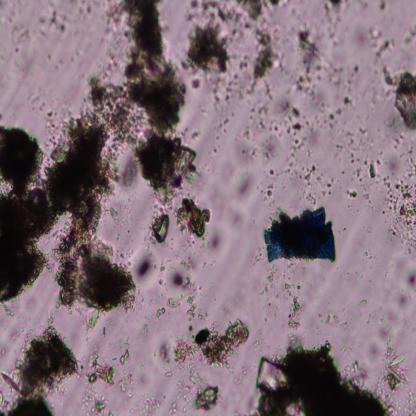Background material: (88, 0, 198, 206), (254, 335, 400, 416), (0, 126, 56, 302), (56, 207, 135, 329), (0, 315, 83, 416), (44, 113, 116, 220), (287, 24, 361, 98), (210, 56, 249, 156), (381, 146, 416, 257), (176, 319, 250, 370), (240, 0, 278, 91), (180, 24, 235, 81), (379, 59, 416, 135), (272, 100, 320, 154), (282, 162, 342, 205), (84, 336, 134, 387), (187, 0, 251, 38), (241, 104, 282, 163), (332, 127, 371, 181), (175, 195, 215, 242), (366, 309, 402, 361), (166, 256, 198, 305), (282, 279, 306, 336), (183, 278, 211, 326), (316, 96, 352, 131), (131, 246, 160, 287), (384, 345, 408, 393), (176, 370, 202, 413), (366, 26, 393, 66), (36, 5, 67, 38), (257, 265, 282, 304), (397, 256, 416, 307), (85, 386, 115, 416), (114, 156, 140, 189), (319, 306, 352, 332), (324, 0, 346, 38), (149, 209, 171, 247), (259, 168, 280, 205), (135, 393, 167, 416), (192, 385, 220, 411), (200, 230, 225, 258), (224, 204, 248, 232), (233, 174, 257, 199), (159, 342, 174, 379), (253, 326, 271, 352), (119, 371, 135, 397), (139, 314, 154, 339), (401, 24, 416, 49), (138, 363, 152, 388), (404, 389, 416, 416), (291, 8, 308, 26), (375, 0, 389, 16), (367, 161, 378, 179), (363, 250, 377, 264), (2, 303, 16, 317), (155, 305, 168, 319), (361, 188, 372, 204), (107, 205, 118, 220), (356, 298, 368, 310), (190, 78, 200, 91), (346, 189, 357, 200), (357, 0, 369, 10), (277, 0, 289, 7), (342, 226, 346, 232)
Fragment: (259, 204, 337, 264)
